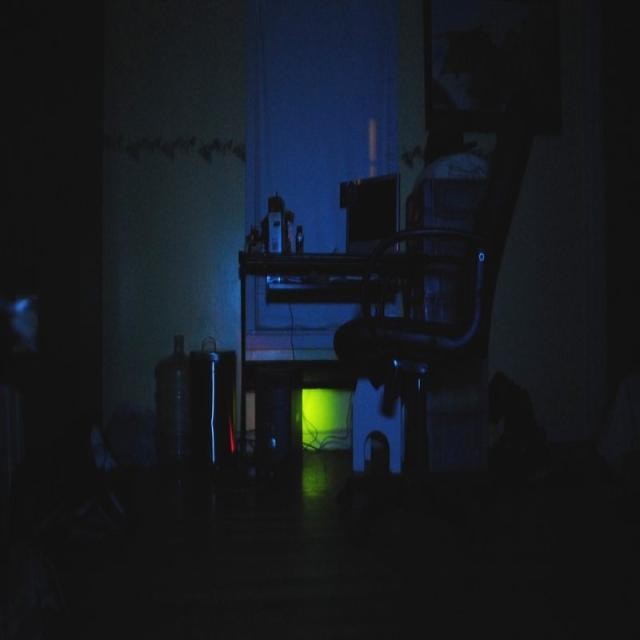Table: (229, 199, 503, 517)
chair: (319, 113, 560, 496)
